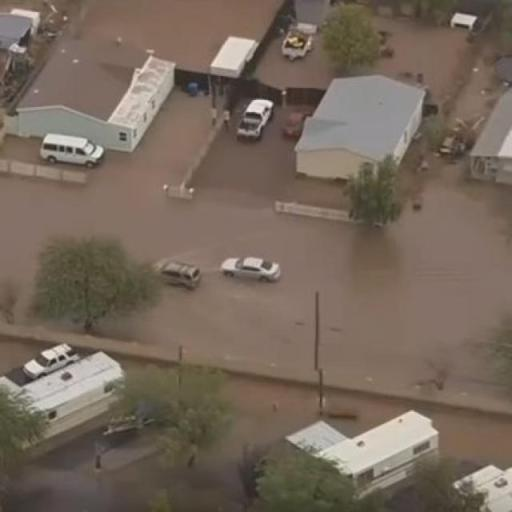flood: (0, 90, 512, 384), (100, 261, 303, 364)
house: (23, 36, 173, 157), (290, 68, 436, 189), (272, 408, 446, 494), (470, 68, 512, 182)
